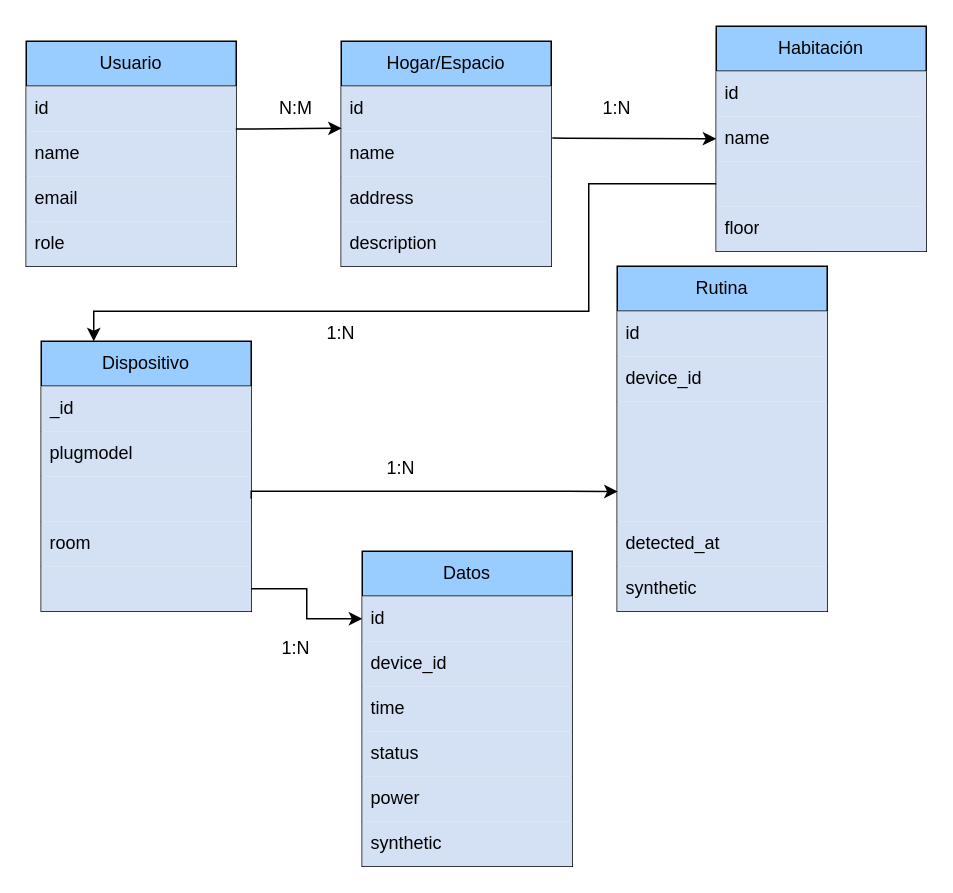
This 953x893 diagram has some shape labels left out. The shapes that lost their labels are listed below. From the top down, each one's centre as x and y in pixels, then its label:
the point at 821,183: home_id
the point at 721,460: routine: { hour_range days frequency }
the point at 145,498: user
the point at 145,588: appliance
